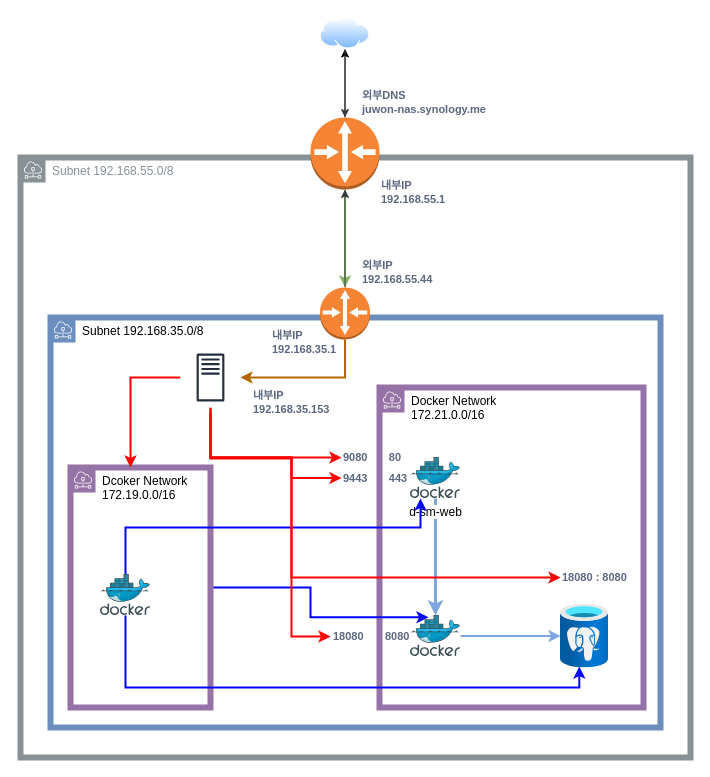
This 710x777 diagram has some shape labels left out. The shapes that lost their labels are listed below. From the top down, each one's centre as x and y in pixels, then its label:
(125,594): JENKINS-NEW
(435,635): d-msp-rs
(584,636): Postgresql
